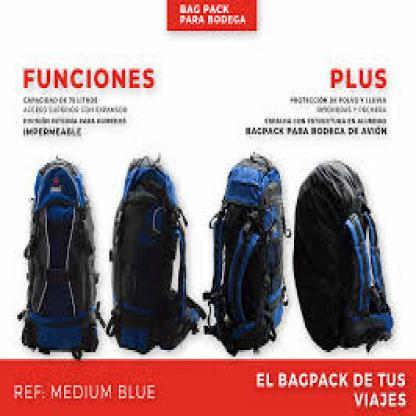morral: (283, 143, 408, 354), (100, 145, 207, 352), (8, 147, 106, 359), (203, 143, 291, 354)
